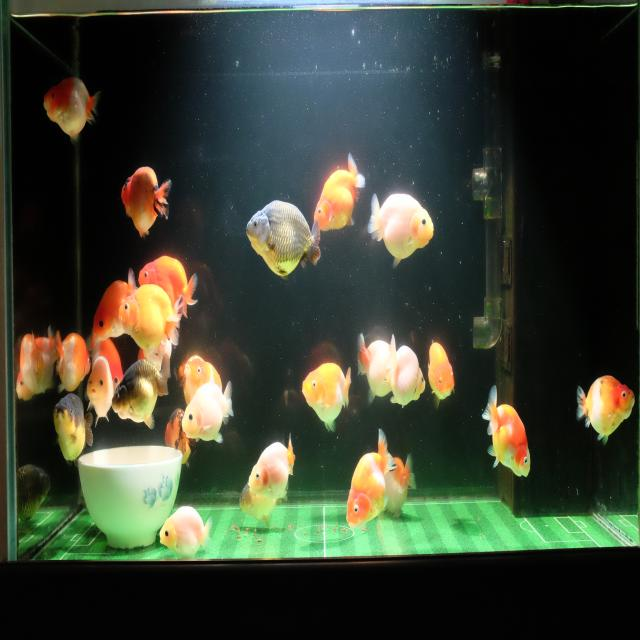Tilapia: (245, 199, 320, 283), (345, 426, 397, 532), (367, 192, 434, 270), (118, 283, 184, 362), (110, 353, 172, 431), (481, 384, 531, 479), (575, 372, 635, 447), (42, 74, 101, 149), (138, 254, 200, 320), (314, 152, 365, 232), (13, 328, 63, 408), (120, 165, 171, 242), (301, 360, 352, 436), (181, 376, 235, 446), (90, 266, 138, 343), (247, 432, 297, 501), (384, 332, 426, 411), (51, 394, 93, 469), (159, 504, 214, 560), (355, 332, 392, 405), (52, 329, 90, 396), (384, 451, 417, 520), (85, 354, 114, 429), (237, 486, 287, 528), (427, 338, 456, 410), (163, 407, 197, 468), (17, 331, 45, 398)
